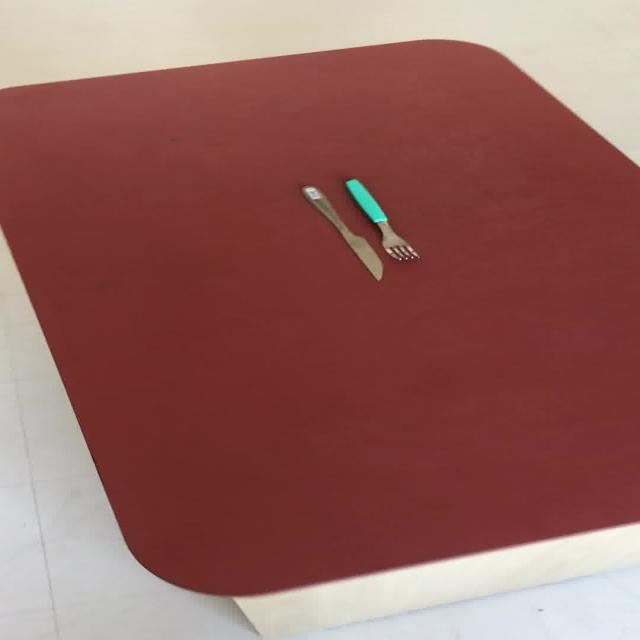fork: (343, 178, 419, 260)
knife fork: (299, 184, 382, 281)
